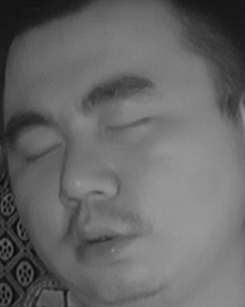blink: (100, 109, 153, 143), (18, 136, 64, 167)
mouth: (60, 215, 143, 268)
